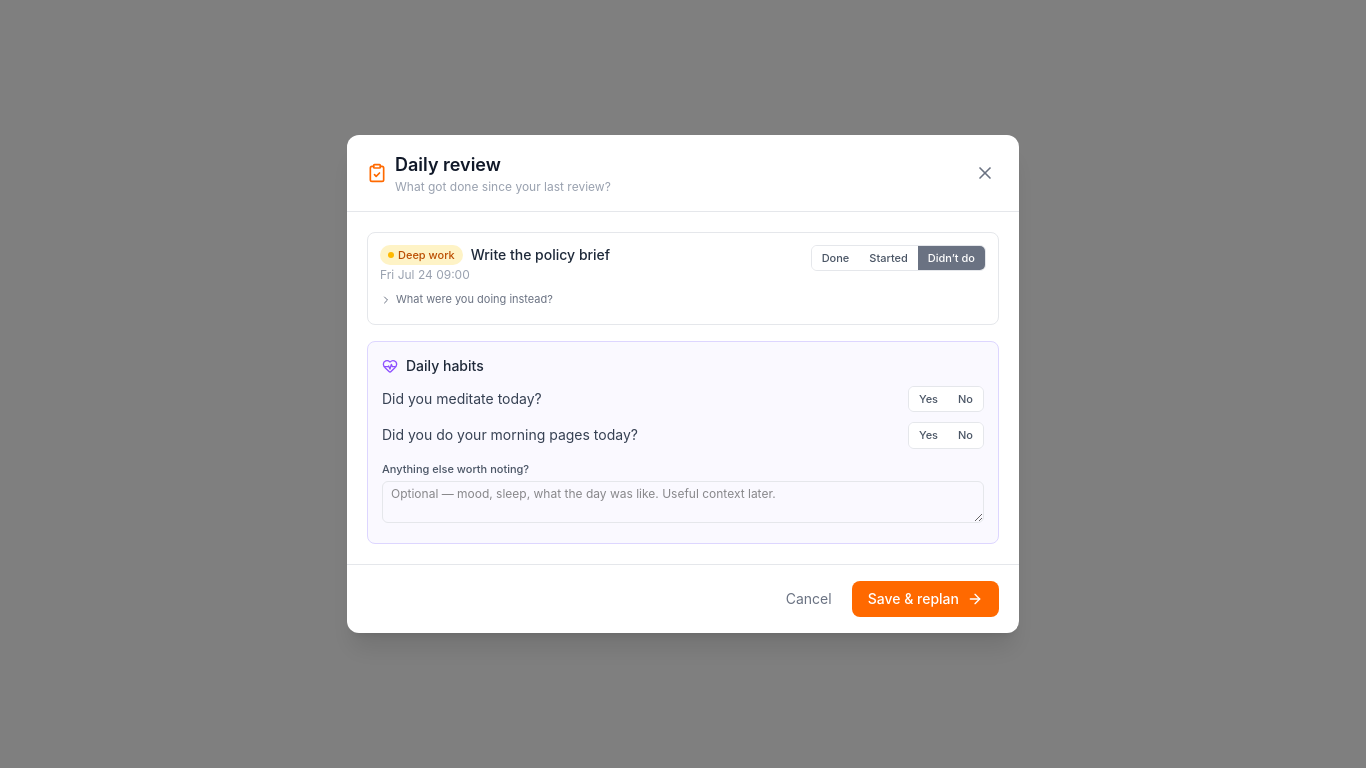
Test: DailyReviewModal — step 1 outcomes and replacements › hides the work option when no workspaces are supplied
Click the button "What were you doing instead?" at [466, 300], box 380,291 -> 553,308
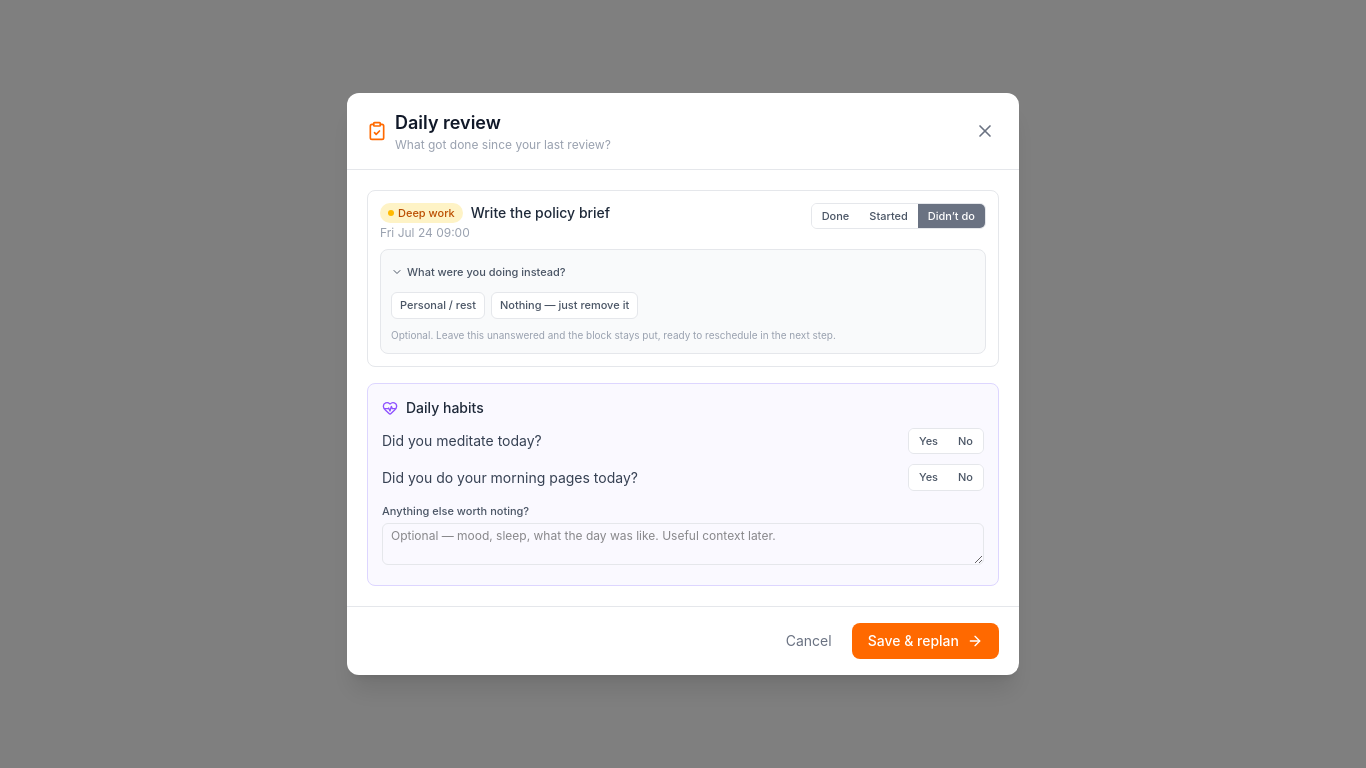
expect the button "Personal / rest" is shown: met, box 391,292 -> 485,319
